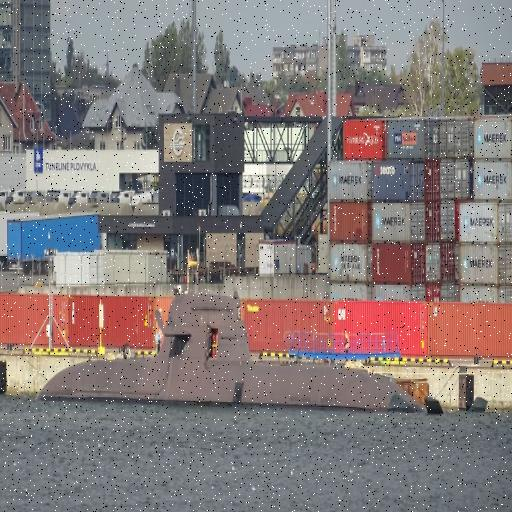submarine: (38, 298, 487, 409)
